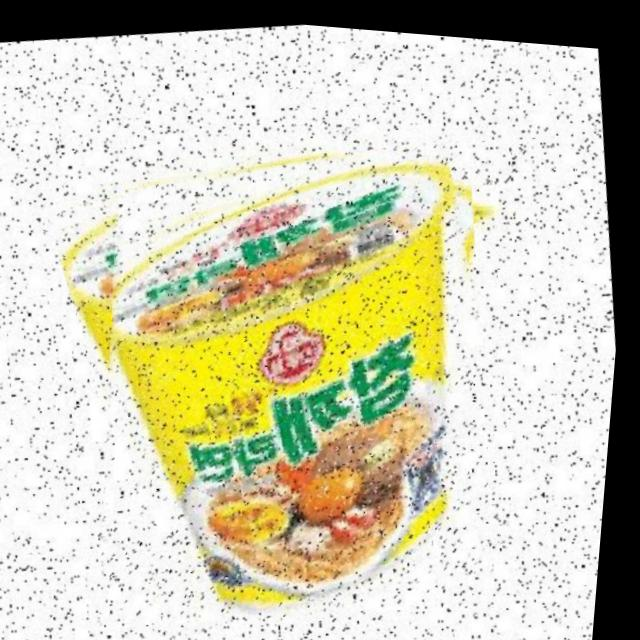Miscellaneous: (37, 94, 535, 640)
